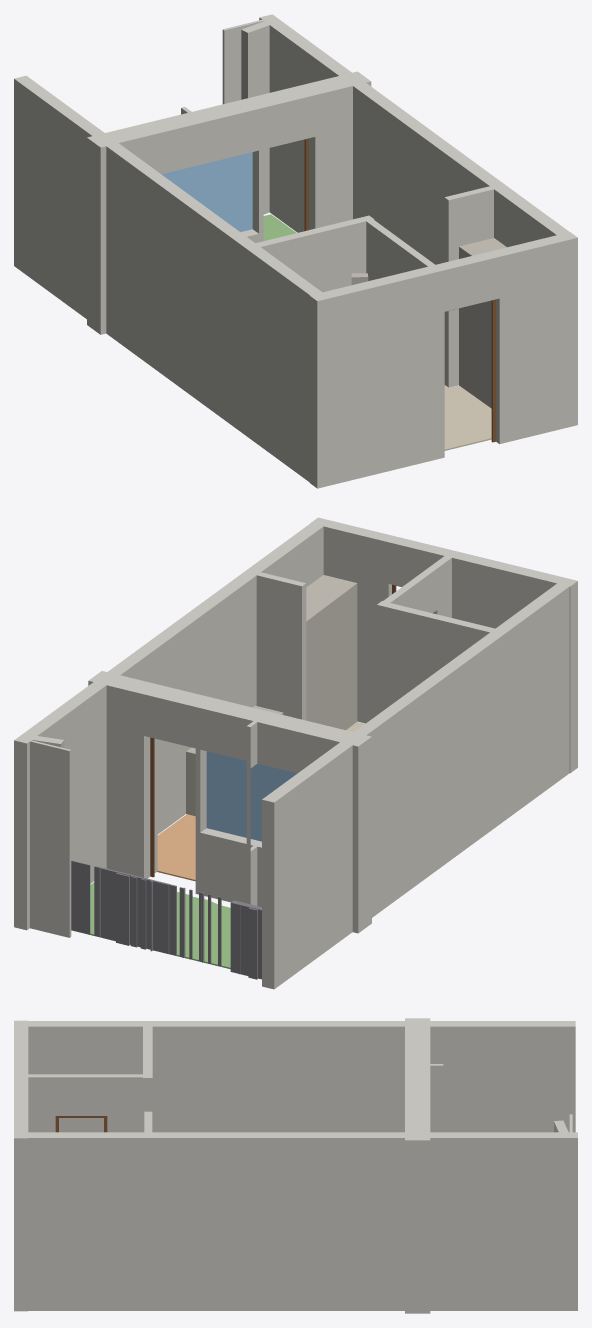
3 renders of one model, top to bottom at view 1: azimuth 30°, elevation 25°; view 2: azimuth 150°, elevation 25°; view 3: azimuth 270°, elevation 25°, orthographic. The views are drawn at different scales.
Parts seen in each view (by area): view 1: walls, window_2, furniture_0_closet, floor_1_Entry, door_0; view 2: walls, railings, furniture_0_closet, window_2, floor_3_Outdoor, floor_0_Living_Room, door_1, furniture_2_appliance; view 3: walls.
Part boxes in pixels (box(x1,y1,x2,y2)): walls: box(14, 14, 577, 488); window_2: box(162, 152, 252, 231); furniture_0_closet: box(459, 238, 506, 408); floor_1_Entry: box(444, 385, 491, 450); door_0: box(449, 299, 495, 442); walls: box(14, 517, 577, 989); railings: box(71, 860, 261, 979); furniture_0_closet: box(306, 575, 357, 730); window_2: box(206, 751, 297, 841); floor_3_Outdoor: box(72, 882, 230, 969); floor_0_Living_Room: box(157, 814, 195, 881); door_1: box(150, 737, 154, 877); furniture_2_appliance: box(186, 747, 195, 816); walls: box(14, 1018, 577, 1313).
Size of the model in its own units: 4.08 by 2.72 by 7.97.
